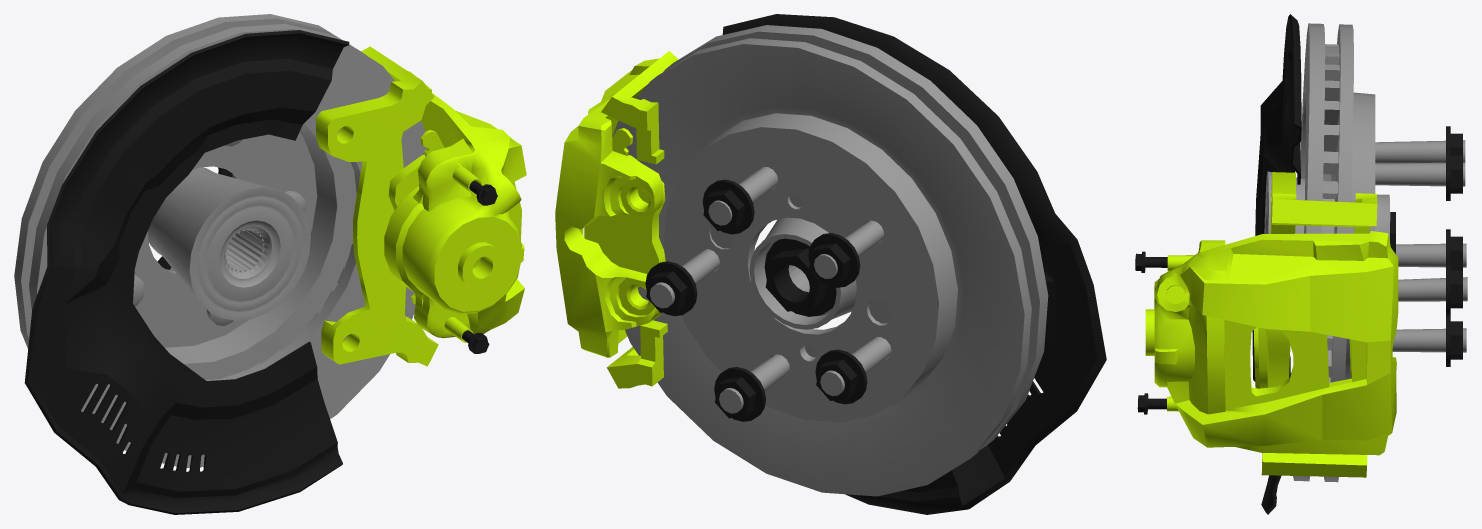
The model's file is E5_前制动器总成.FBX.
The picture shows the model from 3 angles, left to right: view 1: azimuth 30°, elevation 25°; view 2: azimuth 150°, elevation 25°; view 3: azimuth 270°, elevation 25°; orthographic projection. The views are drawn at different scales.
Visible parts, largest first — view 1: BYDQ_DP200, BYDQ_DP202, BYDQ_DP214, BYDQ_DP201, BYDQ_DP216, QZDP_Z_LS; view 2: BYDQ_DP202, BYDQ_DP200, BYDQ_DP214, QZDP_Z_LS, BYDQ_DP215, BYDQ_DP201, QZDP_Z_32_LM_01, QZDP_Z_21_LM_02, QZDP_Z_21_LM_03, QZDP_Z_21_LM_04, QZDP_Z_21_LM_05, QZDP_Z_21_LM_01; view 3: BYDQ_DP214, BYDQ_DP202, QZDP_Z_LS, BYDQ_DP200, BYDQ_DP201, BYDQ_DP216, QZDP_Z_21_LM_02, QZDP_Z_21_LM_01, QZDP_Z_21_LM_05, QZDP_Z_21_LM_04, BYDQ_DP205, BYDQ_DP204 (+1 smaller).
Part boxes in pixels (box(x1,y1,x2,y2)): BYDQ_DP200: box(24, 30, 349, 514); BYDQ_DP202: box(14, 14, 426, 467); BYDQ_DP214: box(316, 46, 526, 366); BYDQ_DP201: box(148, 167, 310, 320); BYDQ_DP216: box(388, 130, 444, 304); QZDP_Z_LS: box(133, 139, 306, 325); BYDQ_DP202: box(612, 25, 1048, 496); BYDQ_DP200: box(722, 14, 1106, 514); BYDQ_DP214: box(555, 51, 678, 388); QZDP_Z_LS: box(649, 166, 891, 413); BYDQ_DP215: box(584, 128, 665, 287); BYDQ_DP201: box(749, 217, 856, 329); QZDP_Z_32_LM_01: box(764, 238, 836, 316); QZDP_Z_21_LM_02: box(702, 179, 754, 234); QZDP_Z_21_LM_03: box(808, 233, 860, 287); QZDP_Z_21_LM_04: box(815, 349, 867, 404); QZDP_Z_21_LM_05: box(714, 367, 765, 421); QZDP_Z_21_LM_01: box(645, 261, 697, 316); BYDQ_DP214: box(1145, 172, 1398, 477); BYDQ_DP202: box(1293, 23, 1375, 482); QZDP_Z_LS: box(1375, 140, 1467, 352); BYDQ_DP200: box(1252, 14, 1301, 514); BYDQ_DP201: box(1264, 171, 1390, 241); BYDQ_DP216: box(1254, 327, 1268, 388); QZDP_Z_21_LM_02: box(1446, 148, 1462, 200); QZDP_Z_21_LM_01: box(1446, 263, 1462, 315); QZDP_Z_21_LM_05: box(1446, 315, 1462, 366); QZDP_Z_21_LM_04: box(1446, 229, 1462, 270); BYDQ_DP205: box(1135, 251, 1167, 272); BYDQ_DP204: box(1137, 393, 1166, 414).
Size of the model in its own units: 34.05 by 31.6 by 20.89.
